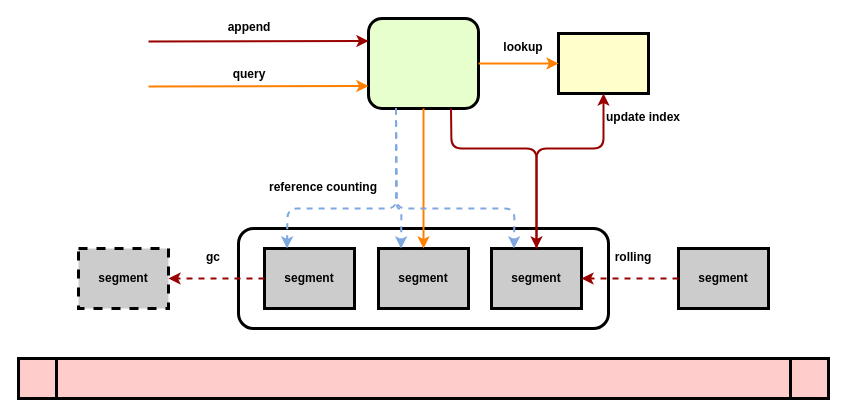
The diagram is 847 pixels wide and 417 high, and some of its shapes have lost their labels. Each missing label, with the centre of its shape:
"index group" goes at point (603, 63).
"persister manage write ahead log" goes at point (423, 63).
"Shard" goes at point (423, 378).
